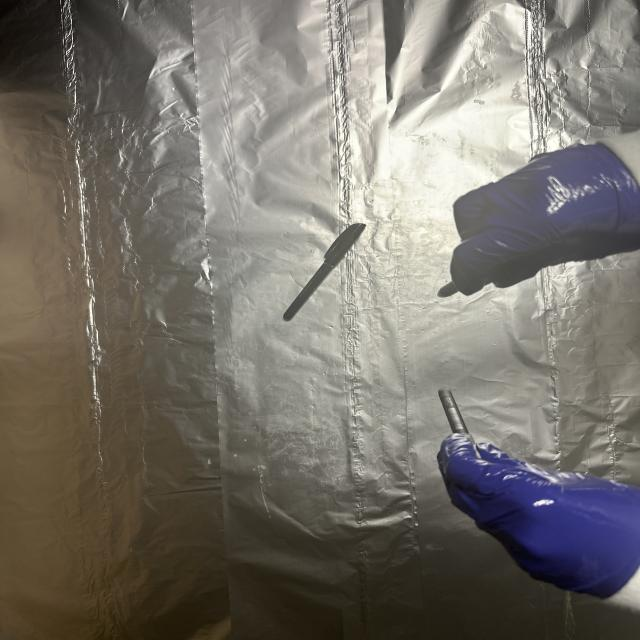gloves_contaminated: (438, 436, 640, 597), (450, 144, 640, 295)
